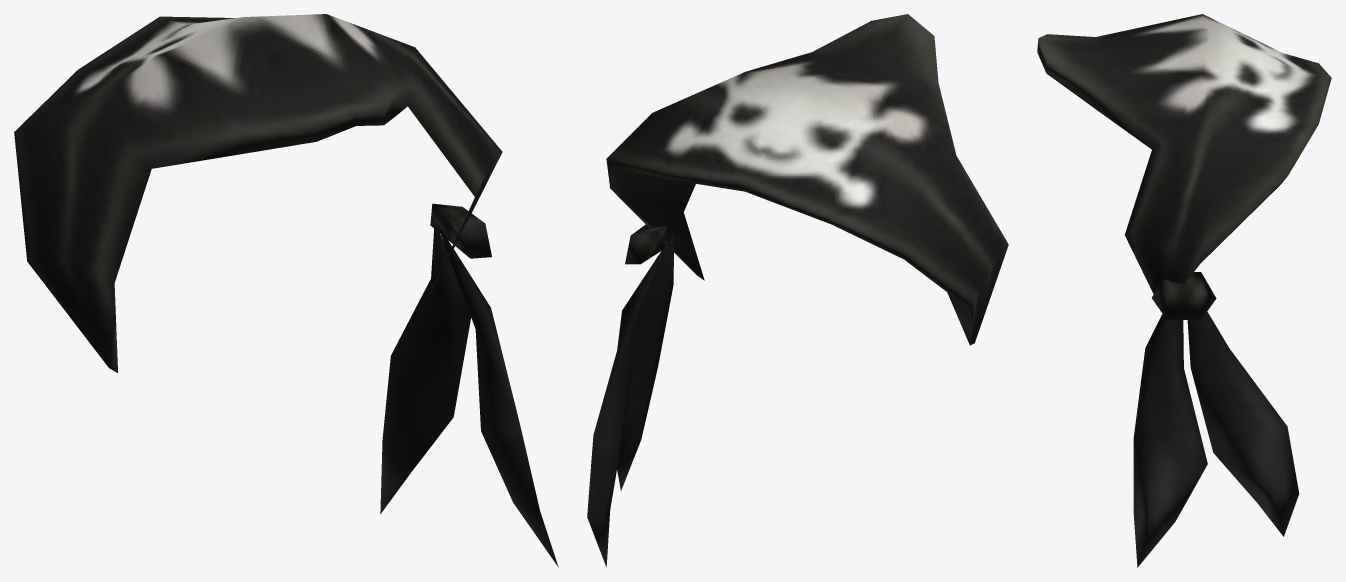
The model's file is pirateBandanaR.glb.
3 views of the same model, side by side, from view 1: azimuth 30°, elevation 25°; view 2: azimuth 150°, elevation 25°; view 3: azimuth 270°, elevation 25° (orthographic). The views are drawn at different scales.
Visible parts, largest first — view 1: pirateBandanaR; view 2: pirateBandanaR; view 3: pirateBandanaR.
Part boxes in pixels (x1,y1,x2,y2): pirateBandanaR: (14,14,558,567); pirateBandanaR: (587,14,1008,567); pirateBandanaR: (1037,14,1331,567).
Bounding box in the file's own units: 0.2802 × 0.3306 × 0.202.
Materials: 1 (1 with a texture image).
